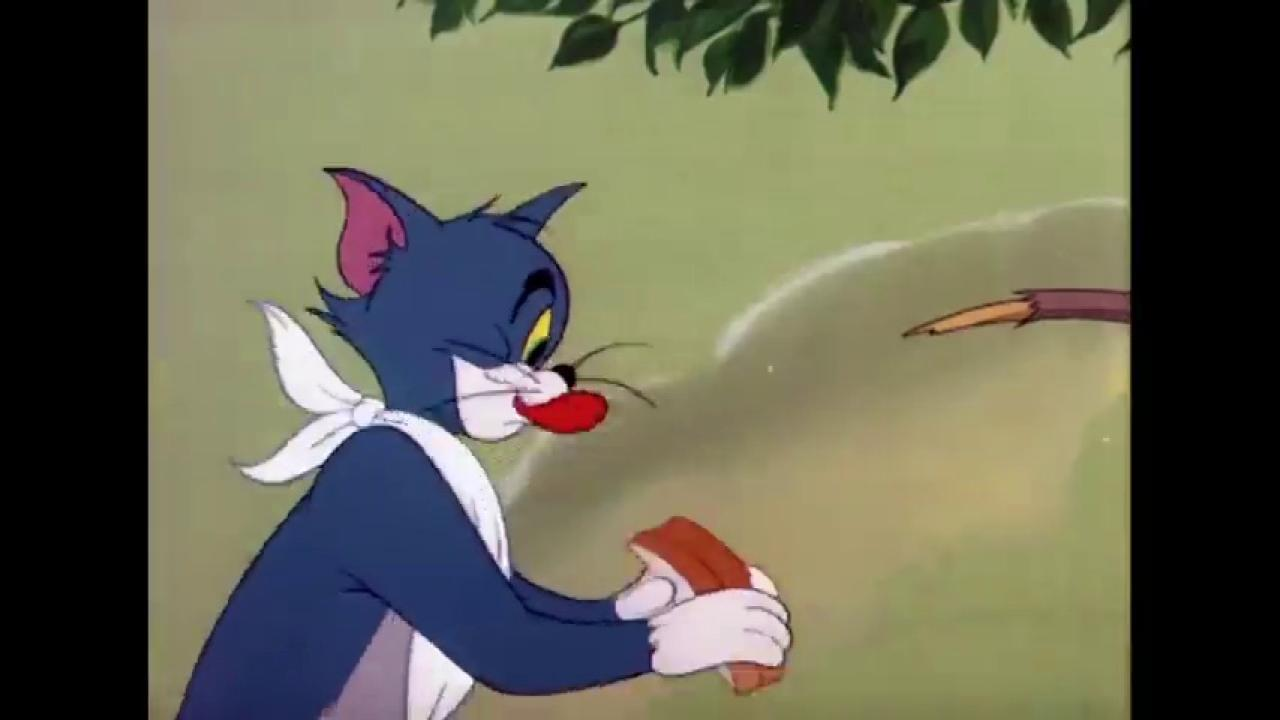Tom: (173, 162, 795, 720)
